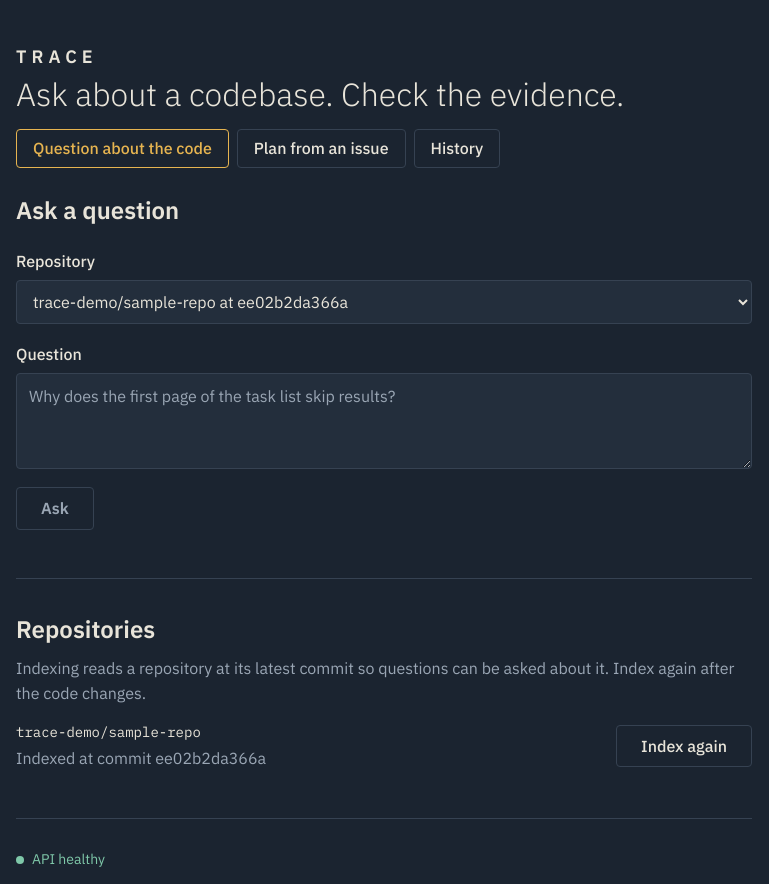
Scenario: asks the selected repository at its latest snapshot and shows the answer, evidence and steps
This screenshot has width=769, height=884.
Type "  Why does page one skip results?  " into the text box labelled "Question". click: x=384, y=421
box: [16,373,752,469]
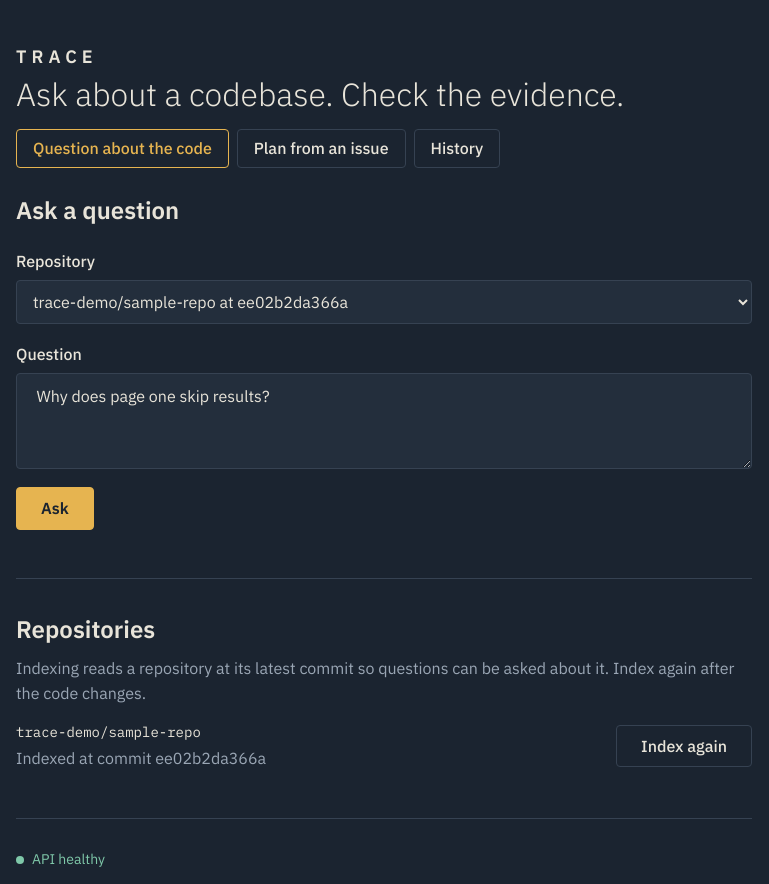
Click the button "Ask". click: x=55, y=509
box: [16,487,94,530]
(page scrolled)
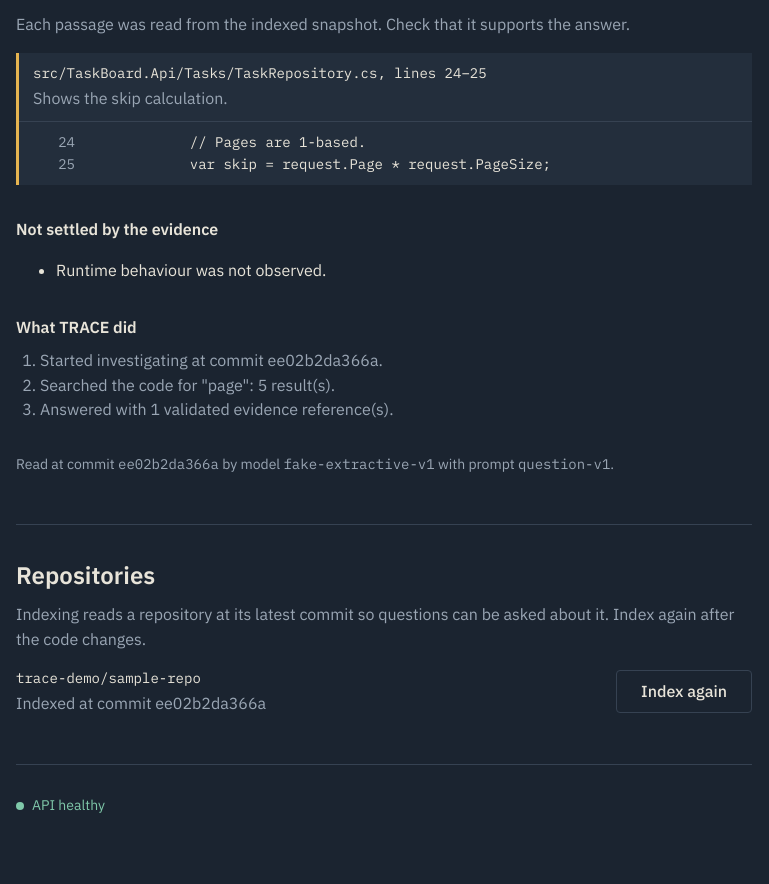
Now the text "src/TaskBoard.Api/Tasks/TaskRepository.cs, lines 24–25" is shown, box [33,64,487,82]
Now the text "24" is shown, box [58,133,75,151]
Now the text "25" is shown, box [58,155,75,173]
